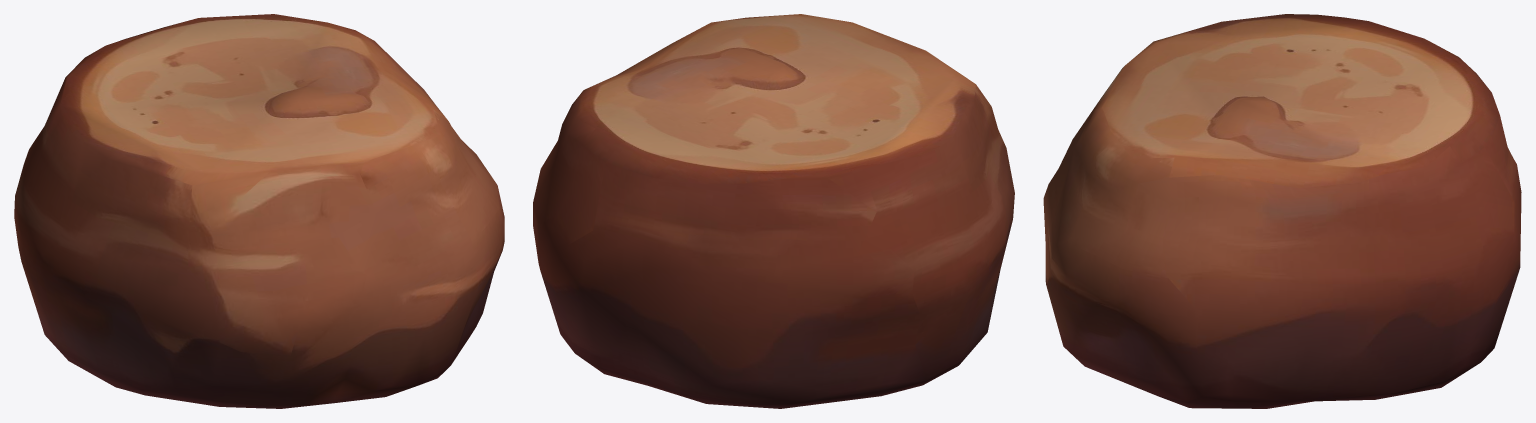
File: rock_a.glb
The picture shows the model from 3 angles, left to right: view 1: azimuth 30°, elevation 25°; view 2: azimuth 150°, elevation 25°; view 3: azimuth 270°, elevation 25°; orthographic projection.
Visible parts, largest first — view 1: geometry_0; view 2: geometry_0; view 3: geometry_0.
Part boxes in pixels (bbox=[...]): geometry_0: bbox=[14, 14, 504, 408]; geometry_0: bbox=[533, 14, 1014, 408]; geometry_0: bbox=[1043, 14, 1521, 408].
Size of the model in its own units: 0.9964 by 0.5458 by 1.
1 material, 1 textured.
